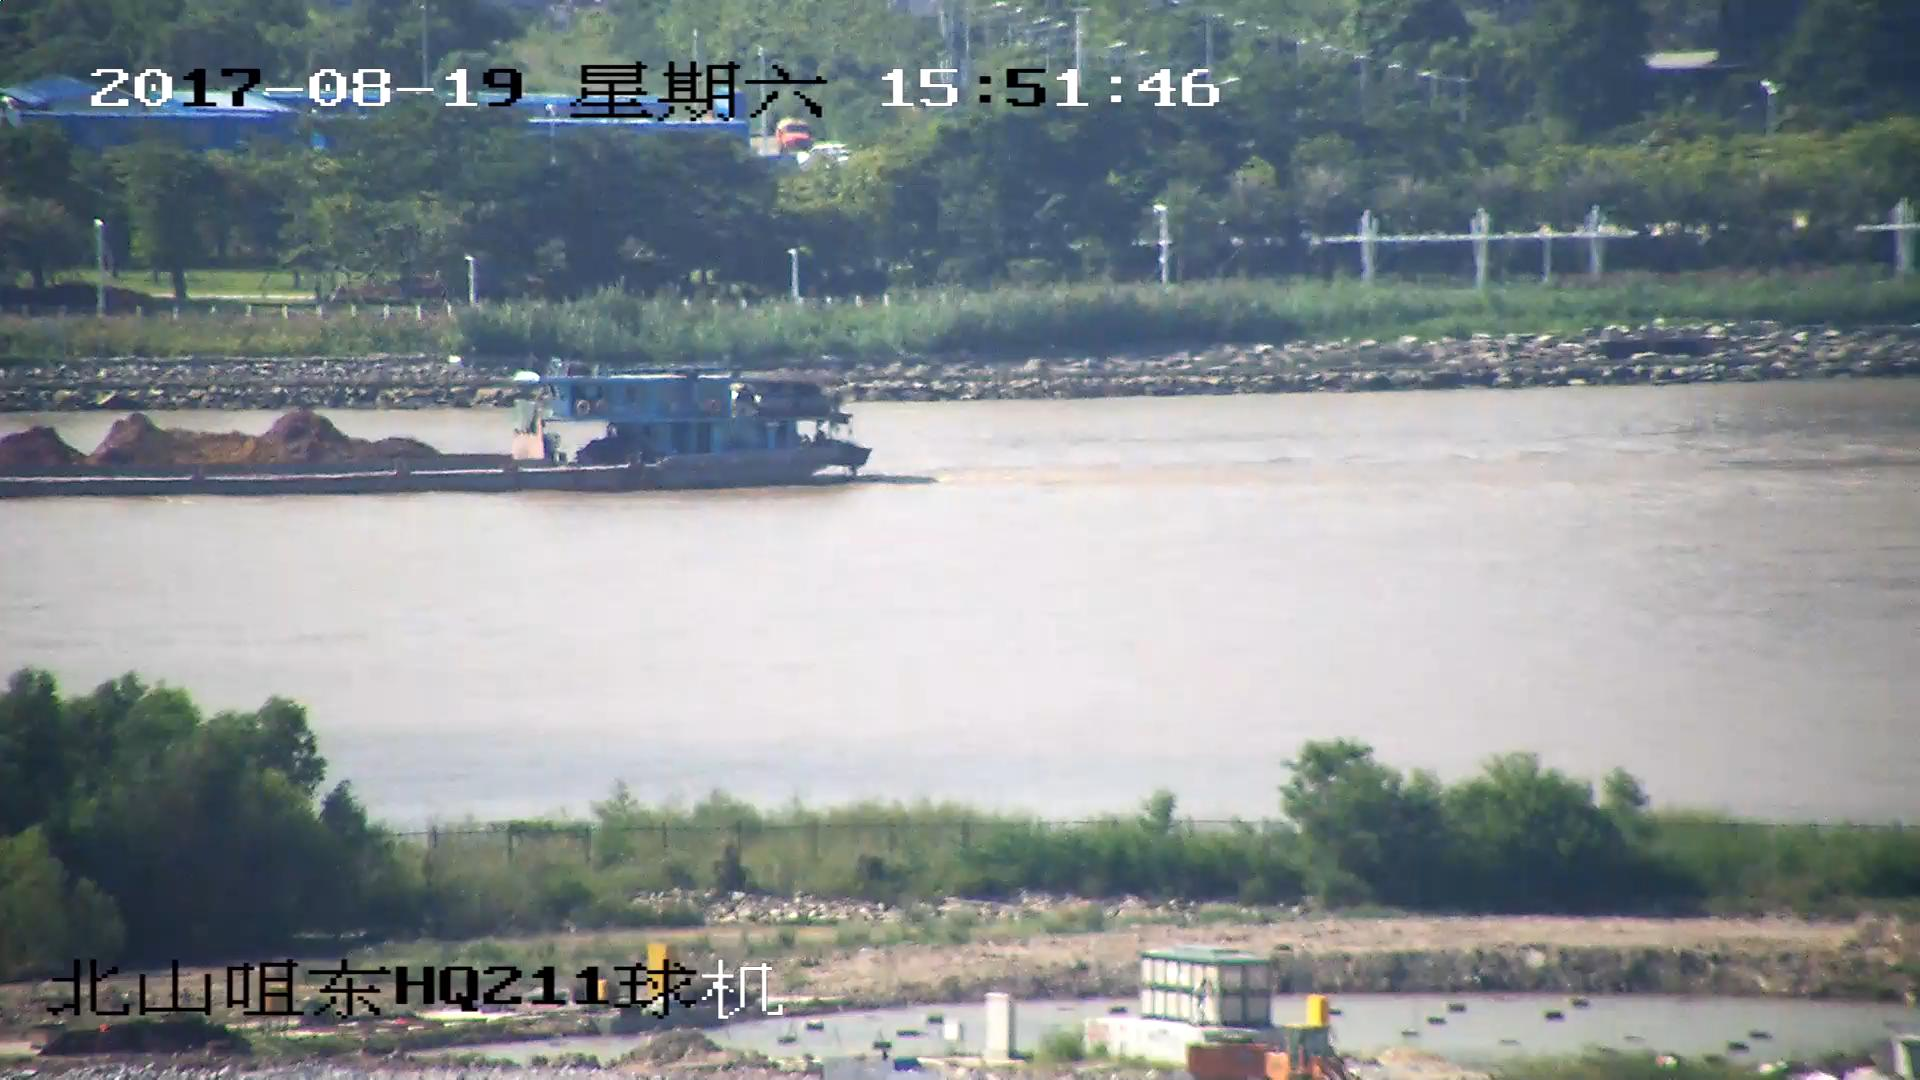ore carrier: (1, 352, 869, 498)
